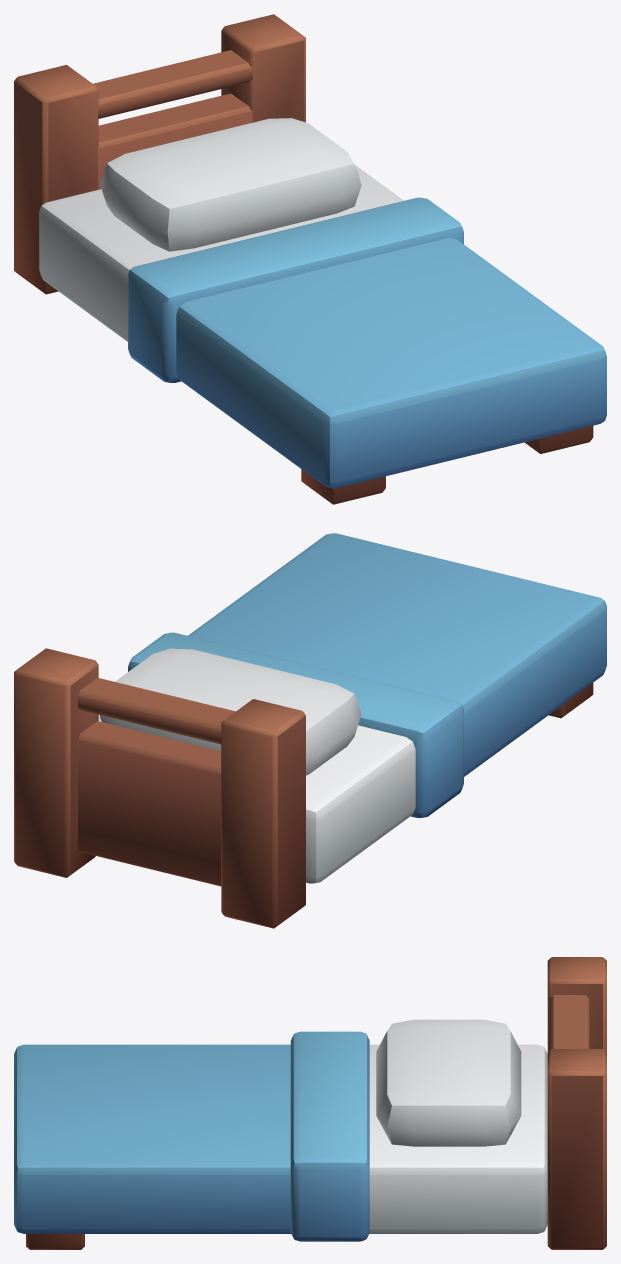
Rendered from bed_single_A.glb.
The picture shows the model from 3 angles, top to bottom: view 1: azimuth 30°, elevation 25°; view 2: azimuth 150°, elevation 25°; view 3: azimuth 270°, elevation 25°; orthographic projection. The views are drawn at different scales.
Parts seen in each view (by area): view 1: bed_single_A; view 2: bed_single_A; view 3: bed_single_A.
Part boxes in pixels (x1=…): bed_single_A: x1=14, y1=14, x2=606, y2=504; bed_single_A: x1=14, y1=533, x2=606, y2=928; bed_single_A: x1=14, y1=957, x2=606, y2=1249.
Size of the model in its own units: 1.6 by 1 by 3.
Materials: 1 (1 with a texture image).
